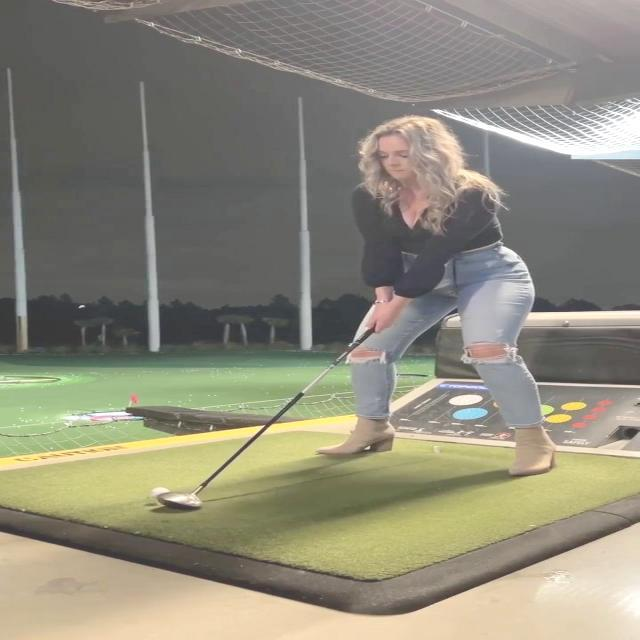golf ball: (150, 487, 171, 497)
golf club-handle: (159, 322, 382, 513)
golf club-head: (160, 491, 204, 510)
